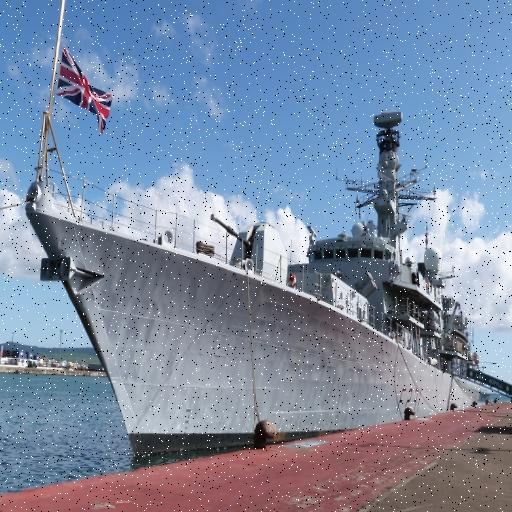Fragata: (25, 109, 512, 468)
